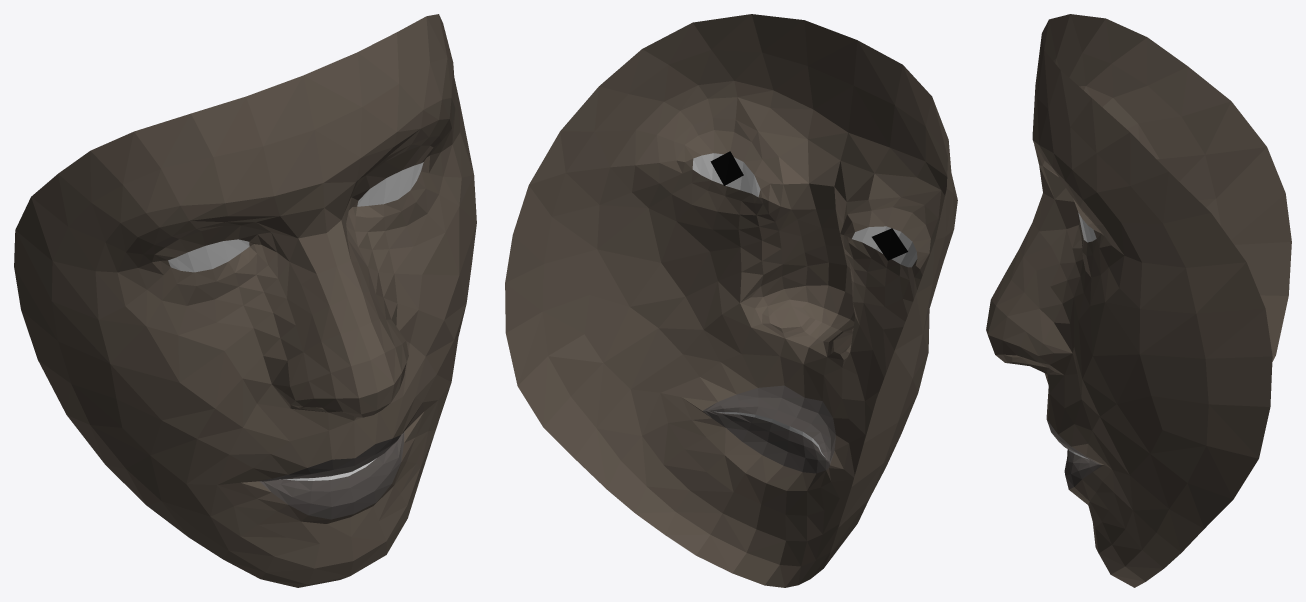
Rendered from depressed.obj.
The picture shows the model from 3 angles, left to right: view 1: azimuth 30°, elevation 25°; view 2: azimuth 150°, elevation 25°; view 3: azimuth 270°, elevation 25°; orthographic projection. The views are drawn at different scales.
Parts seen in each view (by area): view 1: face_model_with_iris; view 2: face_model_with_iris; view 3: face_model_with_iris.
Boxes of the visible parts, box(x1,y1,x2,y2) form: face_model_with_iris: box(14, 14, 476, 587); face_model_with_iris: box(505, 14, 957, 587); face_model_with_iris: box(986, 14, 1291, 587).
Bounding box in the file's own units: 0.6193 × 0.8032 × 0.4275.
